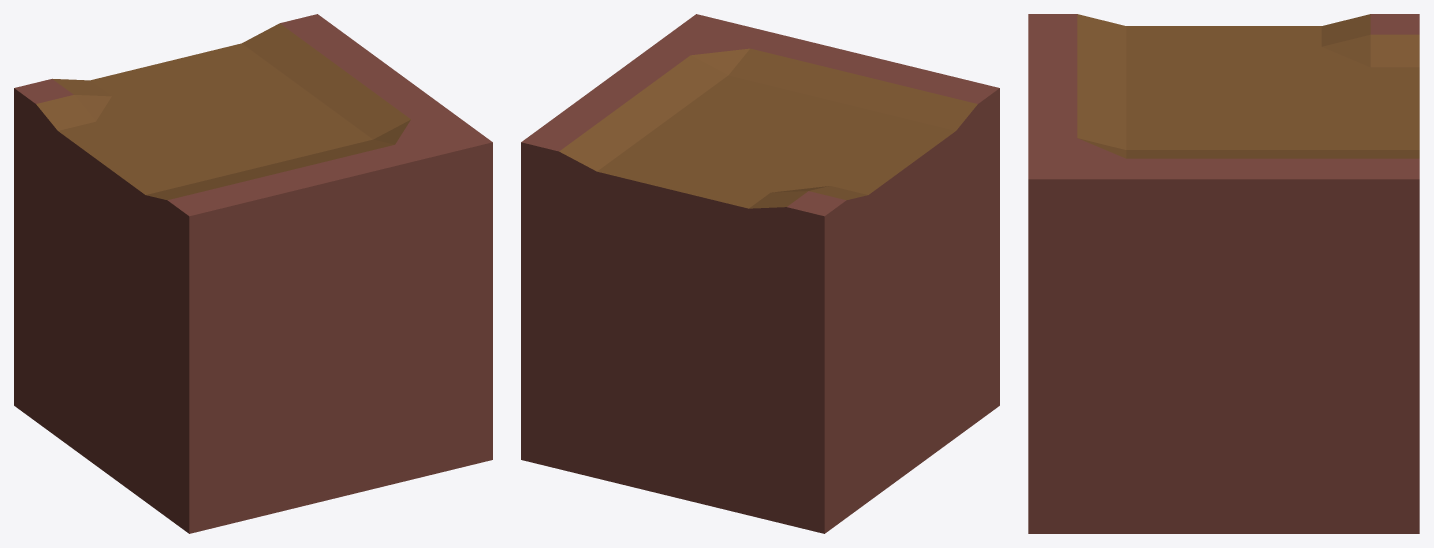
Rendered from Dirt_Path_Corner.glb.
The picture shows the model from 3 angles, left to right: view 1: azimuth 30°, elevation 25°; view 2: azimuth 150°, elevation 25°; view 3: azimuth 270°, elevation 25°; orthographic projection. The views are drawn at different scales.
Parts seen in each view (by area): view 1: Dirt Path Corner; view 2: Dirt Path Corner; view 3: Dirt Path Corner.
Boxes of the visible parts, box(x1,y1,x2,y2) form: Dirt Path Corner: box(14, 14, 492, 533); Dirt Path Corner: box(521, 14, 999, 533); Dirt Path Corner: box(1028, 14, 1419, 533).
Bounding box in the file's own units: 2 × 2 × 2.
Materials: 1 (1 with a texture image).
